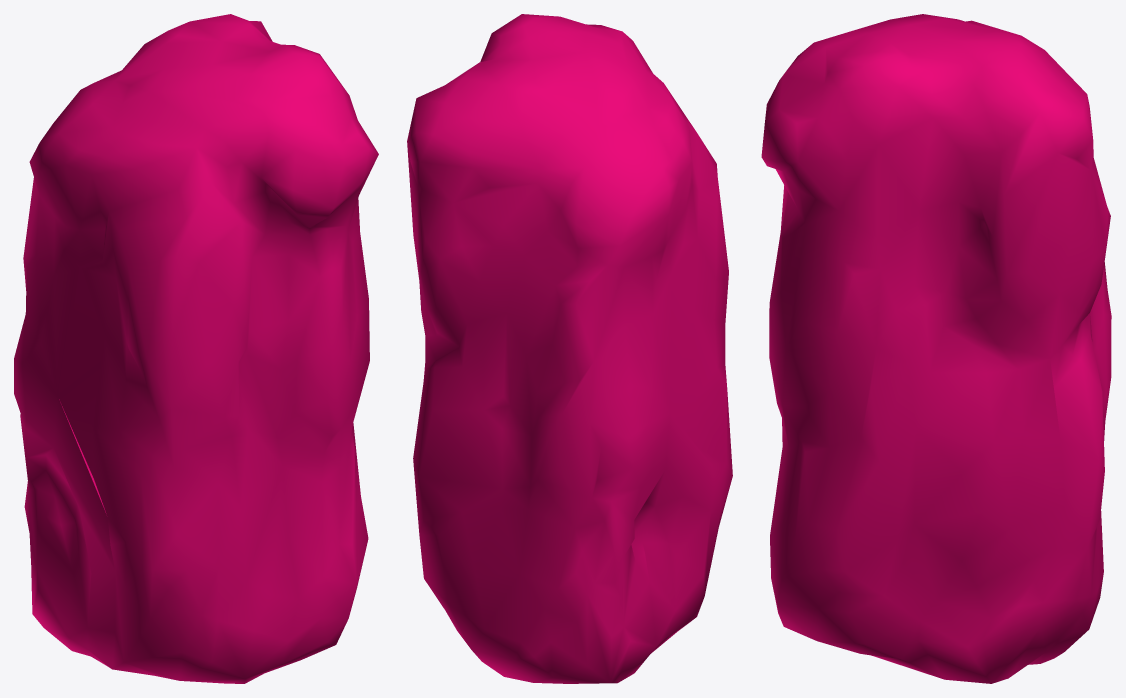
Rendered from Mesh_rock_2.fbx.
The picture shows the model from 3 angles, left to right: view 1: azimuth 30°, elevation 25°; view 2: azimuth 150°, elevation 25°; view 3: azimuth 270°, elevation 25°; orthographic projection. The views are drawn at different scales.
Parts seen in each view (by area): view 1: Object002; view 2: Object002; view 3: Object002.
Part boxes in pixels (left/top/right/bottom): Object002: left=14, top=14, right=378, bottom=683; Object002: left=407, top=14, right=732, bottom=683; Object002: left=761, top=14, right=1111, bottom=683.
Bounding box in the file's own units: 3.63 × 8.28 × 4.1.
